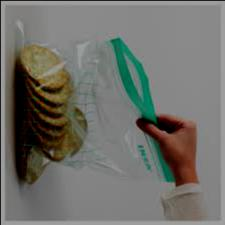Plastic: (11, 35, 176, 198)
